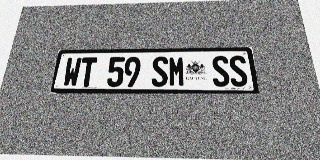5: (107, 57, 125, 87)
9: (123, 57, 141, 87)
M: (169, 56, 185, 87)
S: (228, 55, 249, 87), (211, 56, 231, 87), (151, 56, 168, 87)
T: (78, 57, 97, 87)
W: (62, 57, 82, 87)
